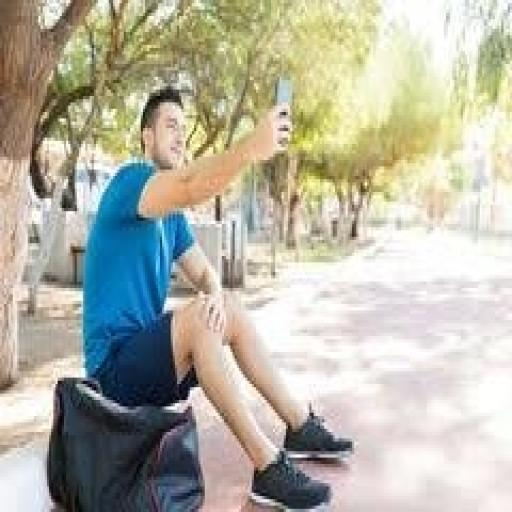sitting: (79, 80, 354, 506)
